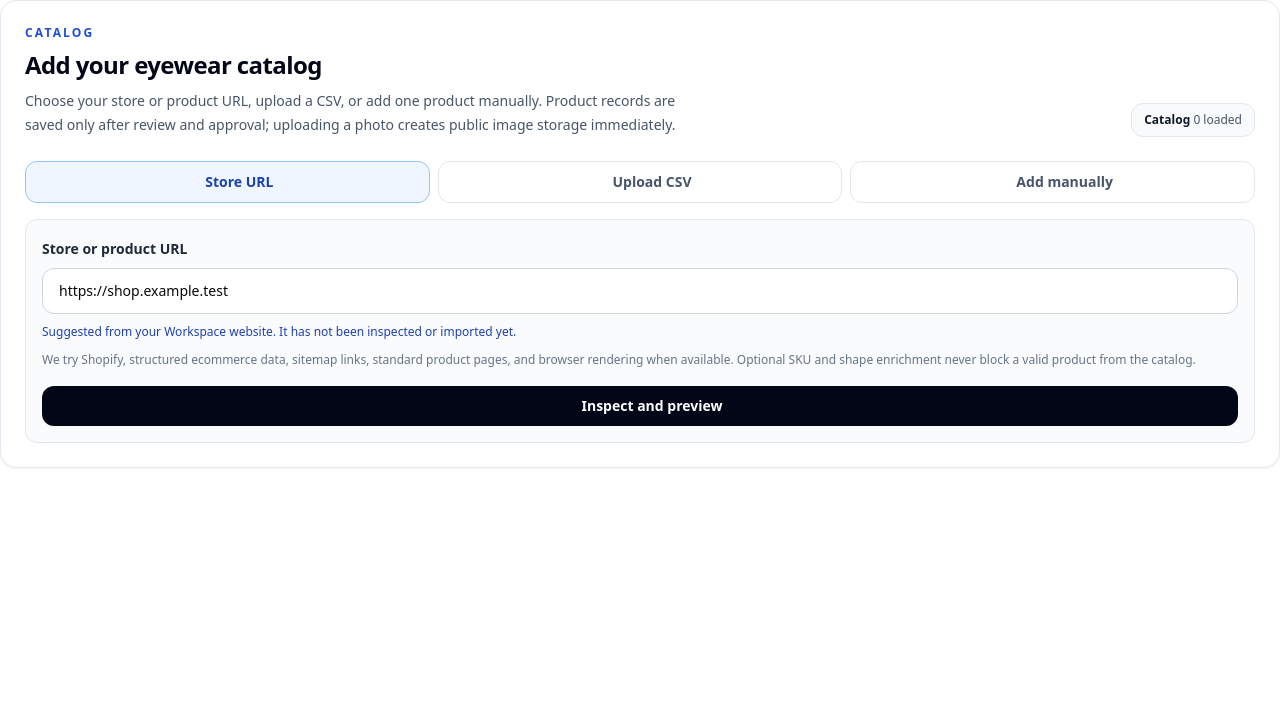
it: Merchant First Value source choice and recovery › offers non-destructive CSV/manual recovery after URL inspection fails
Click the button "Inspect and preview" at (640, 406), box [42,386,1238,426]
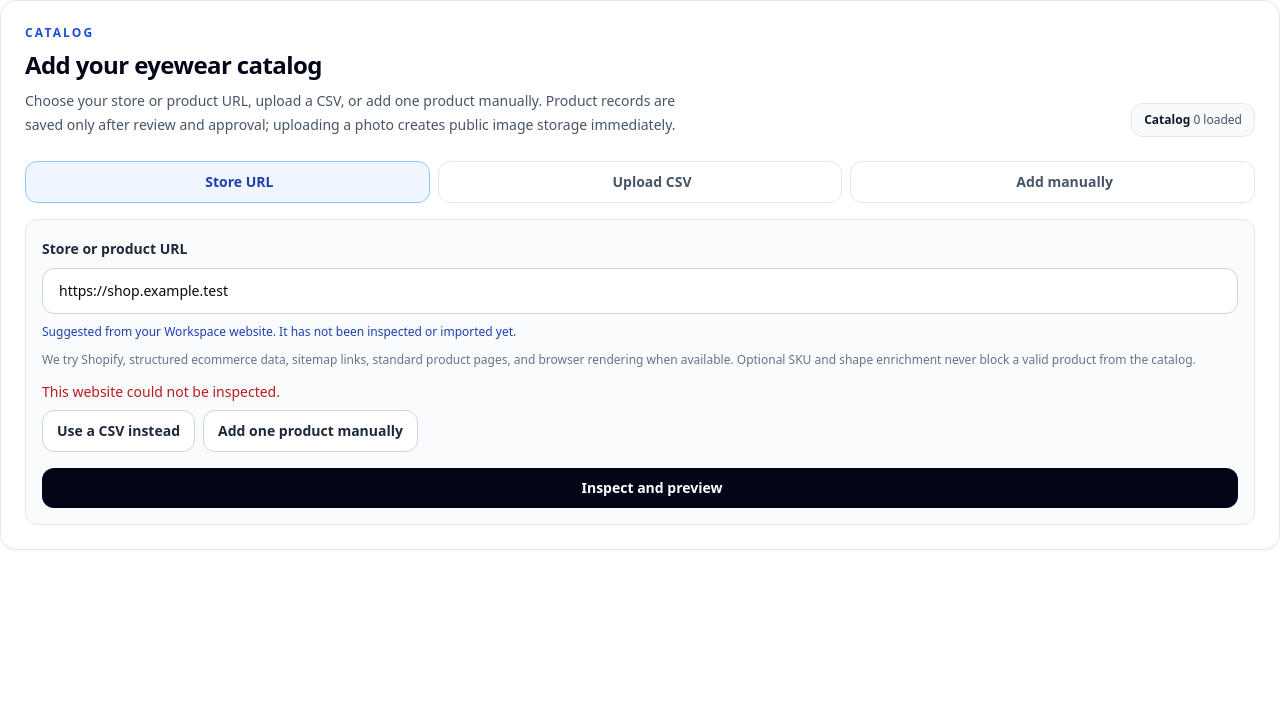
expect the text "This website could not be inspected." is shown: met, box [42,382,280,401]
Click the button "Add one product manually" at (310, 431), box [203,410,418,452]
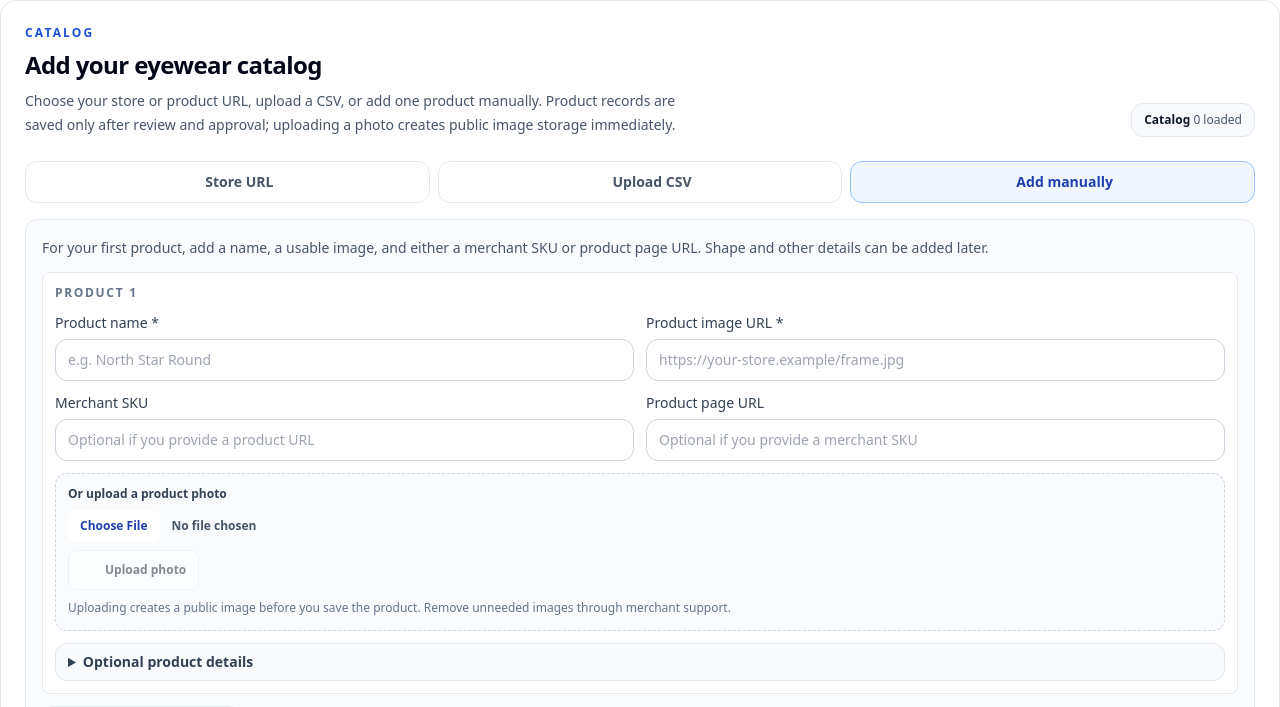
expect the field named "Product name for product 1" is shown: met, box [55,339,634,381]
